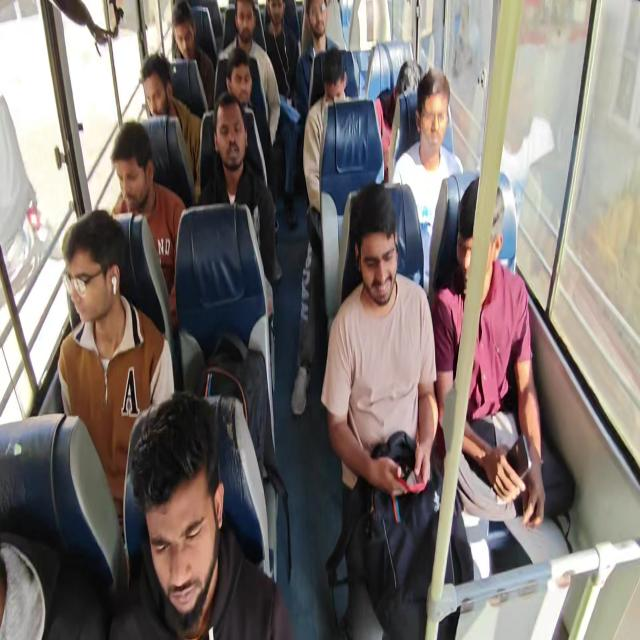person: (108, 443, 261, 640), (0, 419, 80, 640), (60, 192, 143, 388), (440, 196, 536, 340), (349, 190, 405, 338), (207, 108, 271, 230), (308, 43, 380, 148), (110, 124, 160, 217), (422, 91, 472, 175), (158, 0, 210, 77), (132, 51, 180, 120), (228, 0, 264, 59), (399, 47, 428, 116), (298, 2, 334, 48), (229, 67, 261, 115), (265, 0, 284, 29)
